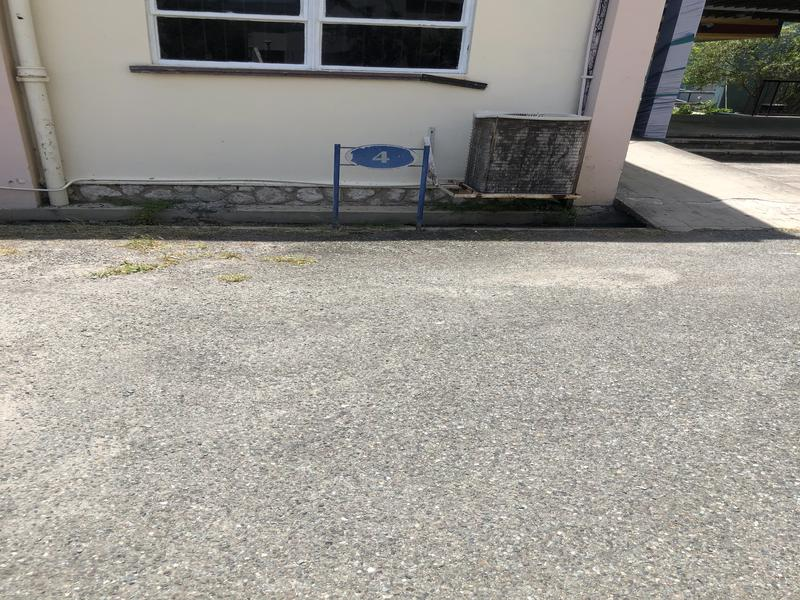18.0053530_-76.7490375_signatentrancetoscitech: (326, 135, 451, 228)
